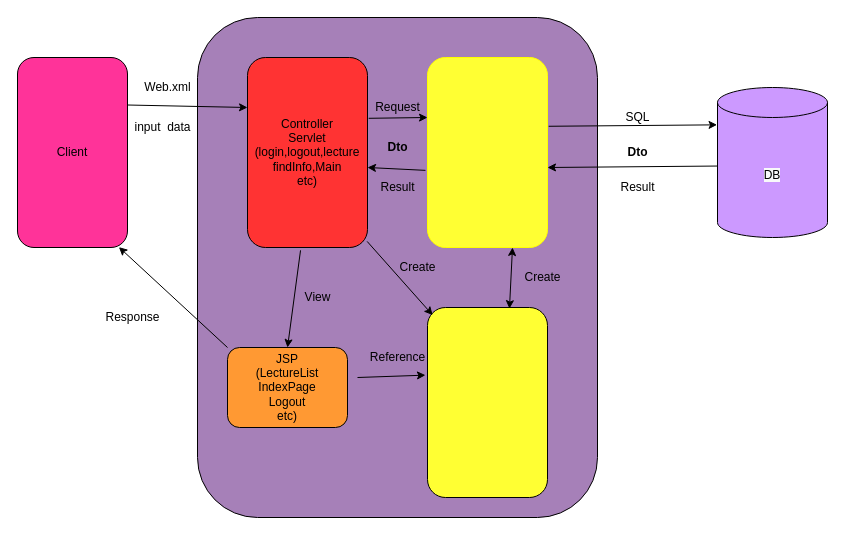
Image size: 845x535. Some labels were removed from this diagram. The shapes that lost their labels are listed below. From the top down, each one's box as (x1, y1, x2, y2) in pixels, then its label:
(426, 56, 548, 248): DAO (Student,Lecture Inclass,Login Register etc)
(426, 306, 548, 498): VO
